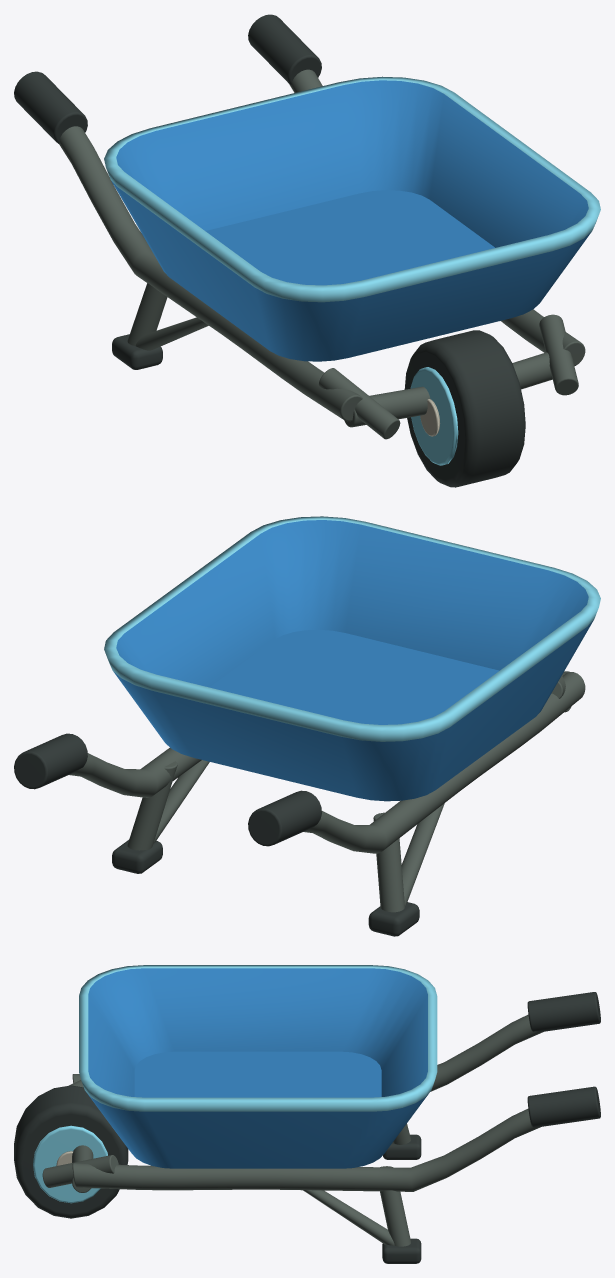
Rendered from wheelbarrow.glb.
3 renders of one model, top to bottom at view 1: azimuth 30°, elevation 25°; view 2: azimuth 150°, elevation 25°; view 3: azimuth 270°, elevation 25°, orthographic. The views are drawn at different scales.
Parts seen in each view (by area): view 1: Poolside Wheelbarrow; view 2: Poolside Wheelbarrow; view 3: Poolside Wheelbarrow.
Part boxes in pixels (x1,y1,x2,y2): Poolside Wheelbarrow: (14,14,600,487); Poolside Wheelbarrow: (14,516,600,936); Poolside Wheelbarrow: (14,965,600,1263).
Bounding box in the file's own units: 1.28 × 0.765 × 2.3.
